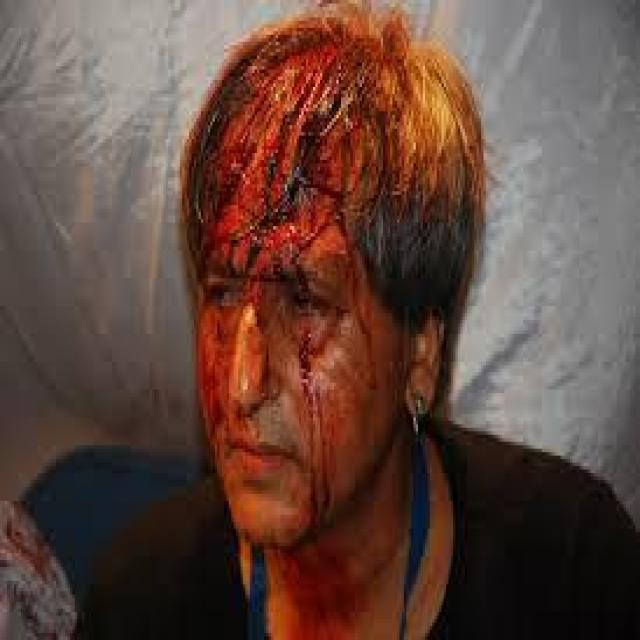flood: (174, 46, 418, 584)
